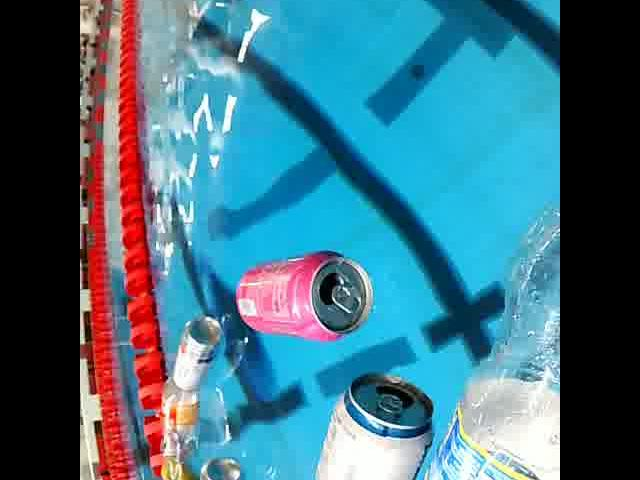Bottle: (414, 190, 560, 480), (156, 368, 198, 466)
Can: (297, 359, 440, 480), (233, 248, 379, 344), (170, 311, 228, 395), (154, 452, 204, 480), (197, 451, 245, 480)
